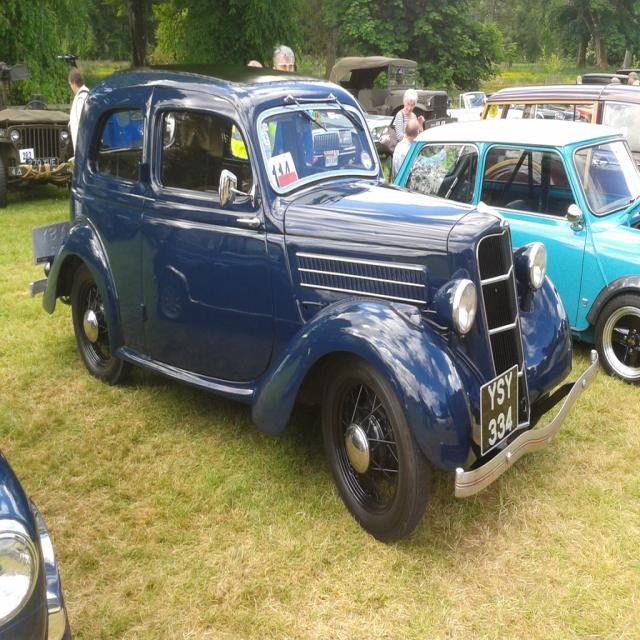car: (31, 67, 596, 546)
